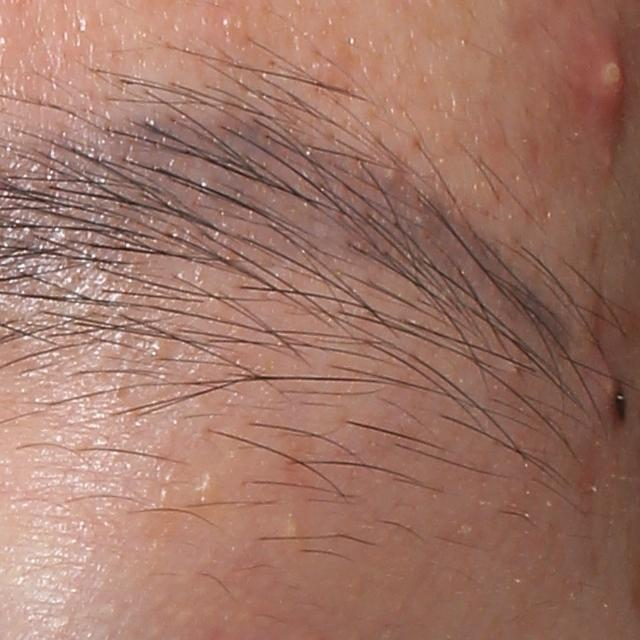comedo: (280, 517, 302, 541)
nevus: (607, 376, 631, 427)
pustule: (579, 27, 630, 129)
